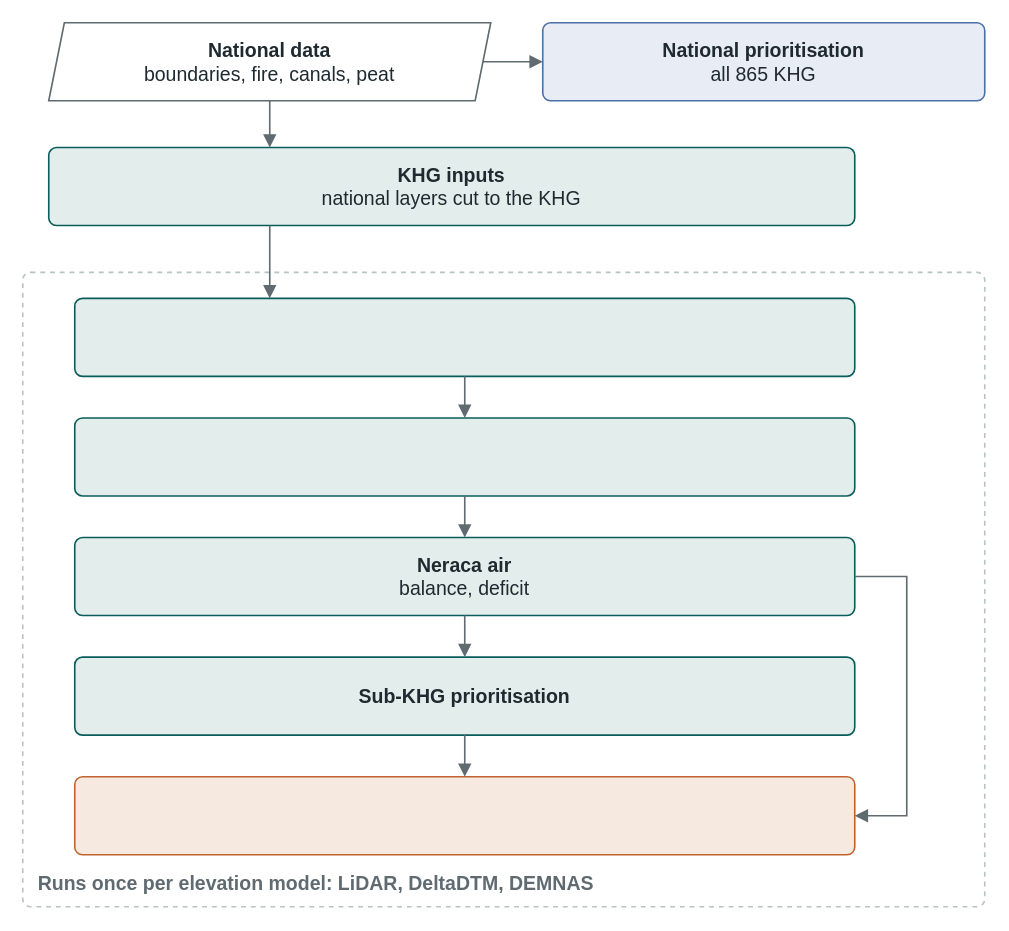
The diagram is 1009 pixels wide and 931 high, and some of its shapes have lost their labels. The shapes that lost their labels are listed below. From the top down, each one's box as (x1, y1, x2, y2) in pixels, then its label:
(73, 297, 855, 377): DEM correction per DEM
(73, 417, 855, 496): Sub-KHG delineation
(73, 775, 855, 855): RE-PEAT Interventions canal blocks, pumps, budget, map layouts
